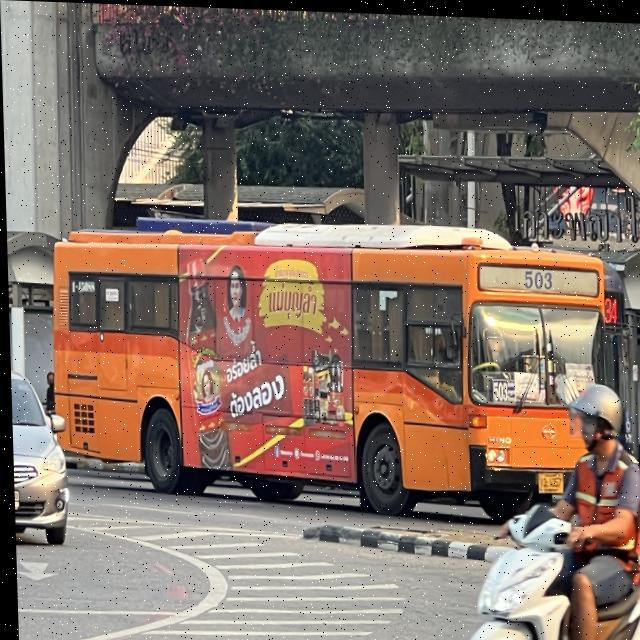BMTA-bus: (48, 222, 612, 520)
Bus Line Number: (519, 262, 554, 288)
Destination Sign: (564, 356, 593, 386)
